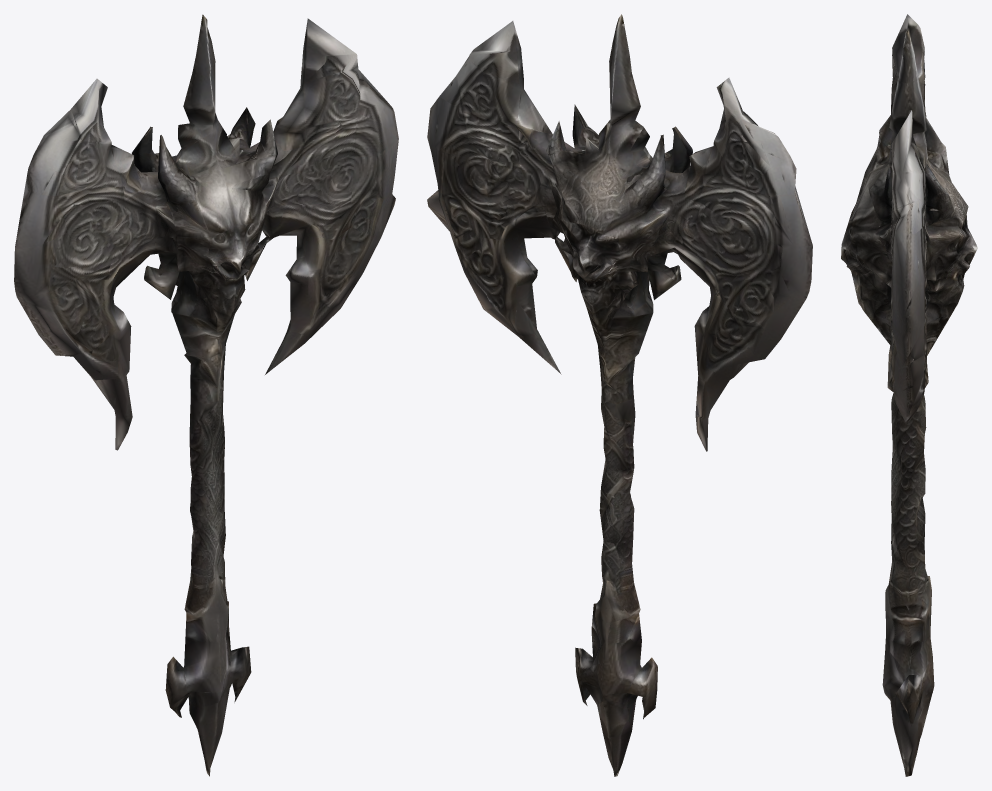
File: 1413_war_axe.glb
The picture shows the model from 3 angles, left to right: view 1: azimuth 30°, elevation 25°; view 2: azimuth 150°, elevation 25°; view 3: azimuth 270°, elevation 25°; orthographic projection. The views are drawn at different scales.
Visible parts, largest first — view 1: Model; view 2: Model; view 3: Model.
Part boxes in pixels (box(x1,y1,x2,y2)): Model: box(14, 14, 398, 776); Model: box(427, 14, 812, 776); Model: box(841, 14, 977, 776).
Size of the model in its own units: 0.5271 by 1 by 0.1662.
1 material, 1 textured.
